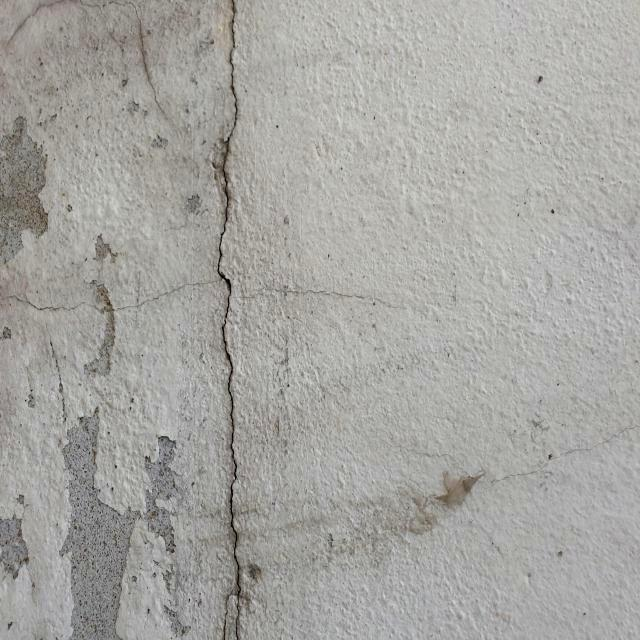SurfaceCrack: (176, 1, 294, 640)
